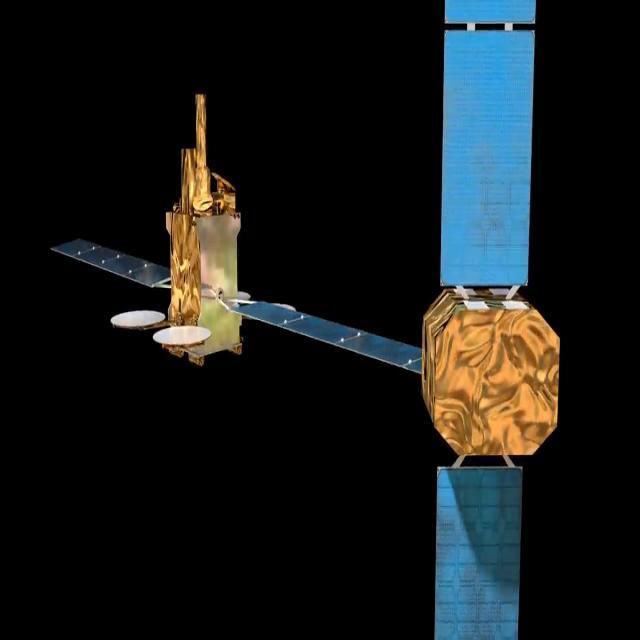sat: (36, 0, 580, 640)
